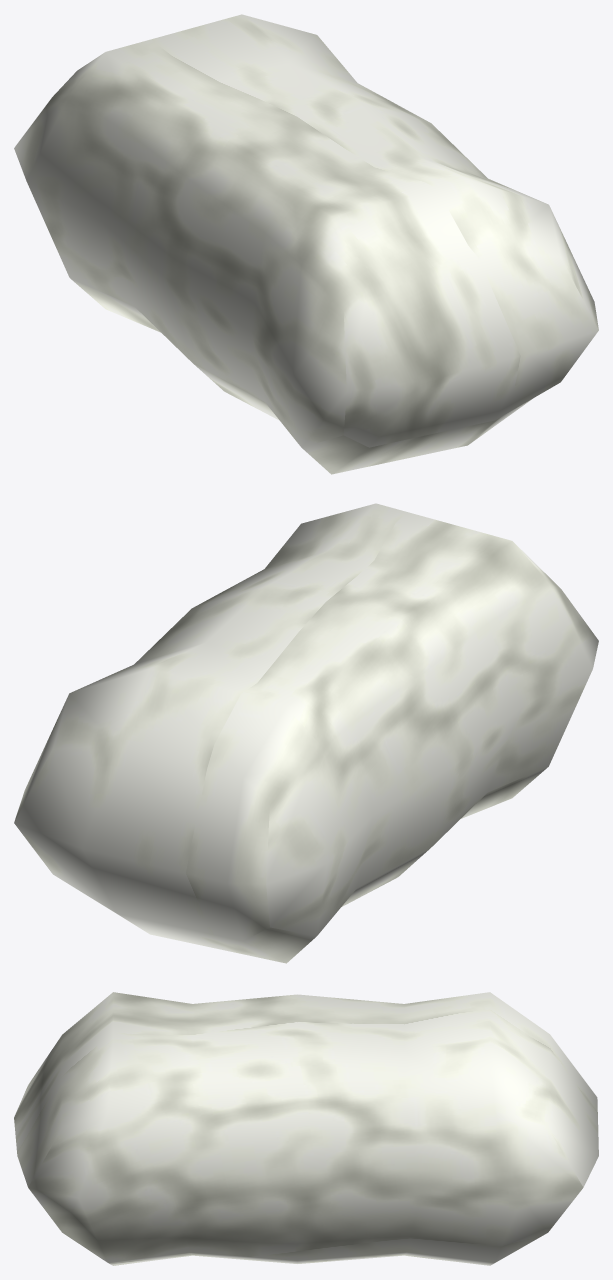
Rendered from Cloud_Rectangle.fbx.
3 views of the same model, one above another, from view 1: azimuth 30°, elevation 25°; view 2: azimuth 150°, elevation 25°; view 3: azimuth 270°, elevation 25° (orthographic). The views are drawn at different scales.
Visible parts, largest first — view 1: pCube1; view 2: pCube1; view 3: pCube1.
Boxes of the visible parts, box(x1,y1,x2,y2) form: pCube1: box(14, 14, 598, 474); pCube1: box(14, 503, 598, 963); pCube1: box(14, 992, 598, 1265).
Size of the model in its own units: 1.29 by 1.08 by 2.59.
